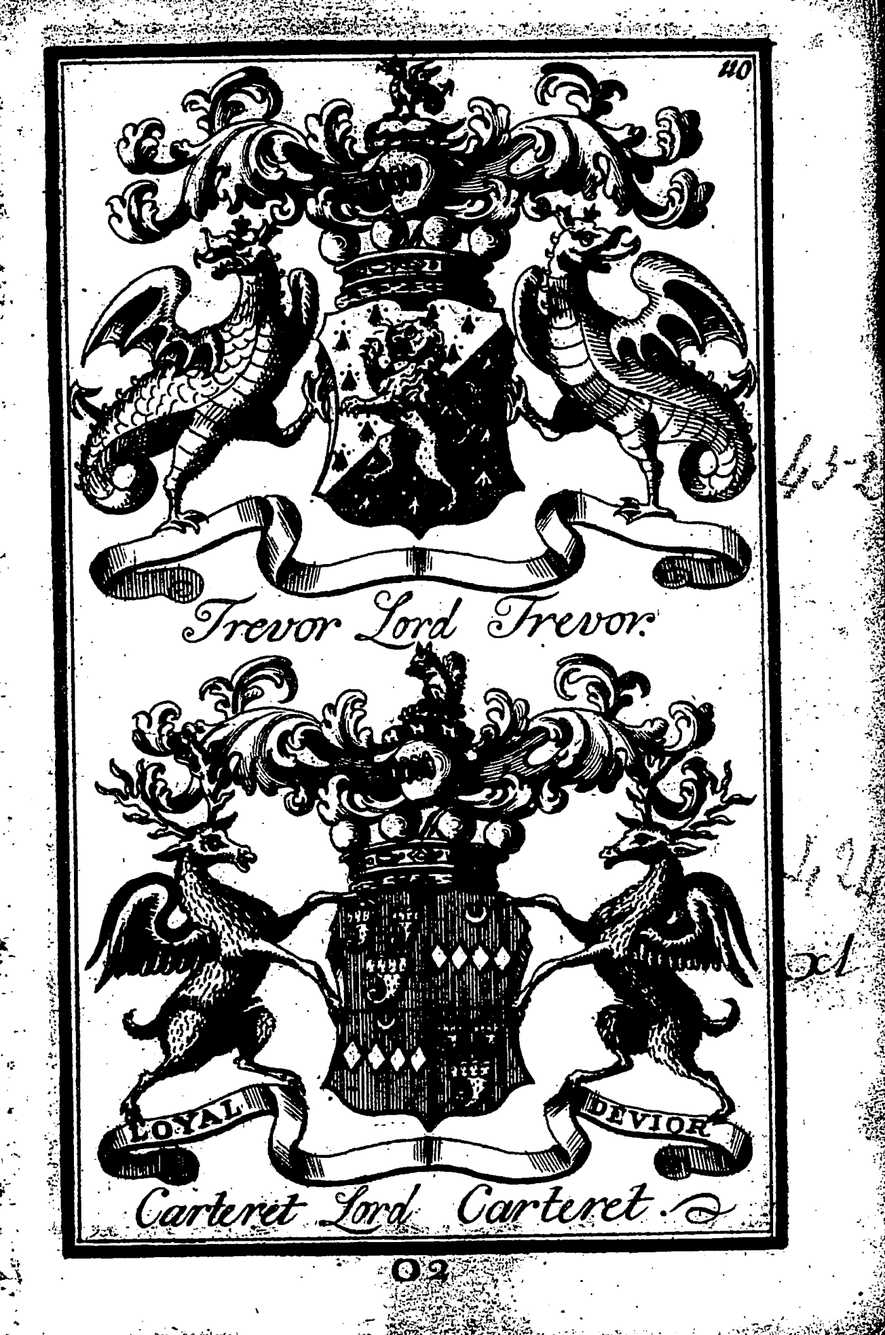coat_of_arms: (67, 59, 754, 658), (76, 649, 781, 1227)
